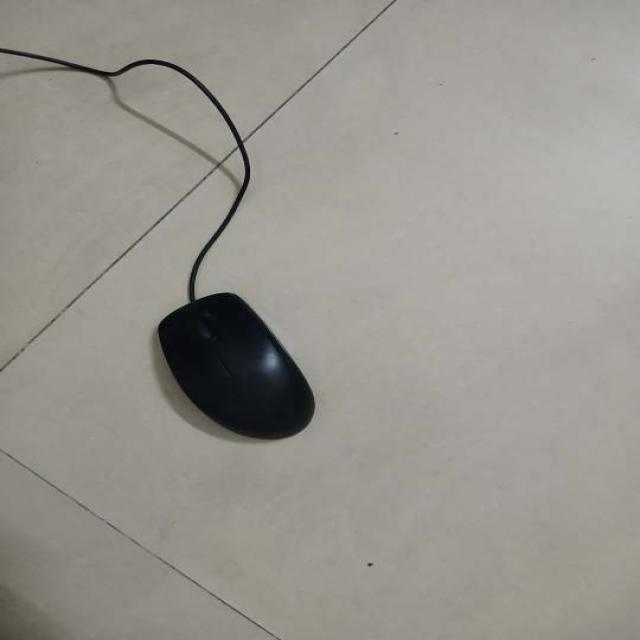mouse: (152, 295, 334, 443)
